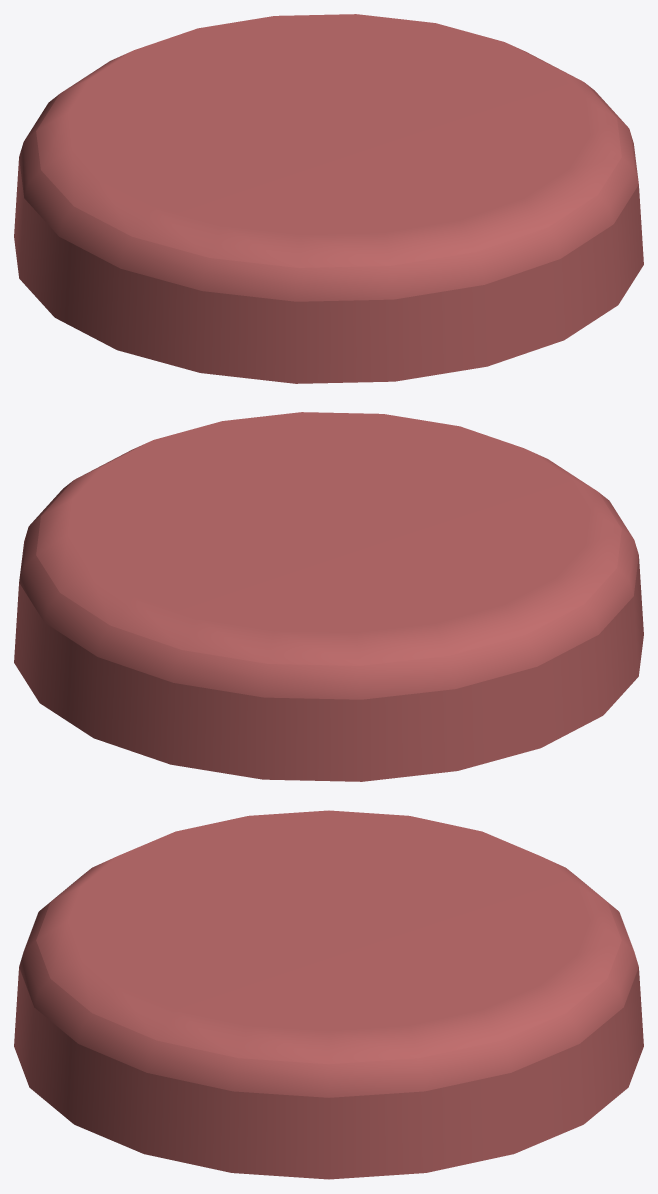
File: Button.fbx
The picture shows the model from 3 angles, top to bottom: view 1: azimuth 30°, elevation 25°; view 2: azimuth 150°, elevation 25°; view 3: azimuth 270°, elevation 25°; orthographic projection.
Visible parts, largest first — view 1: Button; view 2: Button; view 3: Button.
Part boxes in pixels (x1,y1,x2,y2): Button: [14, 14, 643, 383]; Button: [14, 412, 643, 781]; Button: [14, 810, 643, 1179].
Bounding box in the file's own units: 0.5901 × 0.1299 × 0.5901.
